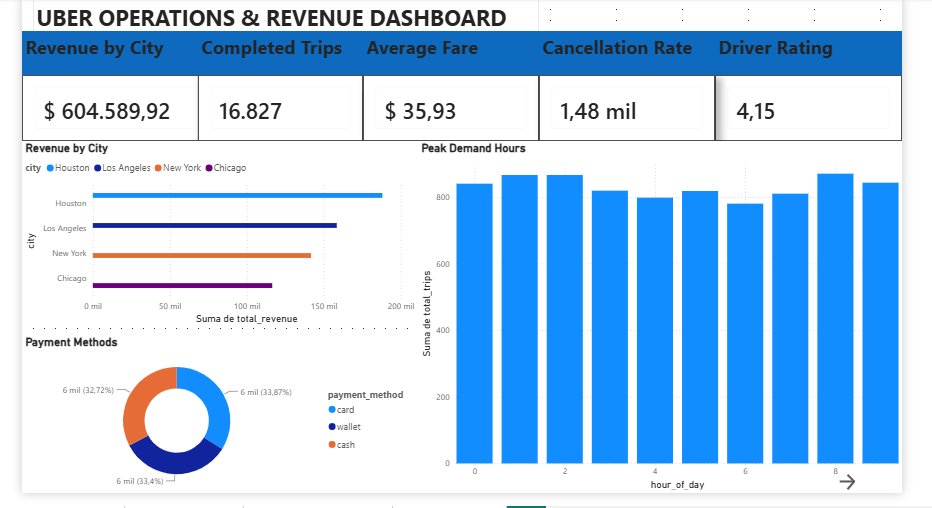

This screenshot's page, from the dashboard's own definition file:
{"tool":"powerbi","page":{"name":"Executive Overview","canvas":[1280,720],"ordinal":0},"visuals":[{"type":"textbox","box":[16,0,736,64],"z":0},{"type":"cardVisual","fields":{"Data":["Measures (2).Total Revenue Display"]},"box":[0,112,320,96],"z":1000},{"type":"cardVisual","fields":{"Data":["Measures (2).Completed Trips Display"]},"box":[256,112,240,96],"z":2000},{"type":"cardVisual","fields":{"Data":["Measures (2).Average Fare Display"]},"box":[496,112,256,96],"z":3000},{"type":"cardVisual","fields":{"Data":["Measures (2).Driver Rating"]},"box":[1008,112,272,96],"z":4000},{"type":"cardVisual","fields":{"Data":["Measures (2).Cancellation Rate"]},"box":[752,112,256,96],"z":5000},{"type":"clusteredBarChart","title":"Revenue by City","fields":{"Category":["2_revenue_by_city.city"],"Y":["Sum(2_revenue_by_city.total_revenue)"],"Series":["2_revenue_by_city.city"]},"box":[0,208,576,272],"z":6000},{"type":"textbox","box":[0,48,256,64],"z":7000},{"type":"textbox","box":[256,48,240,64],"z":8000},{"type":"textbox","box":[496,48,256,64],"z":9000},{"type":"textbox","box":[752,48,256,64],"z":10000},{"type":"textbox","box":[1008,48,272,64],"z":11000},{"type":"donutChart","title":"Payment Methods","fields":{"Category":["4_payment_methods.payment_method"],"Y":["Sum(4_payment_methods.total_payments)"]},"box":[0,490,576,230],"z":12000},{"type":"columnChart","title":"Peak Demand Hours","fields":{"Category":["5_peak_demand_hours.hour_of_day"],"Y":["Sum(5_peak_demand_hours.total_trips)"]},"box":[576,208,704,512],"z":13000},{"type":"actionButton","box":[1184,688,96,32],"z":14000}]}

Visuals, with their boxes on the page's 1280x720 design canvas (x1, y1, x2, y2). These are canvas units, not pixel positions in the 932x508 screenshot, which may show the page scaled, cropped or inside an application window:
textbox: [x1=16, y1=0, x2=752, y2=64]
cardVisual - Measures (2).Total Revenue Display: [x1=0, y1=112, x2=320, y2=208]
cardVisual - Measures (2).Completed Trips Display: [x1=256, y1=112, x2=496, y2=208]
cardVisual - Measures (2).Average Fare Display: [x1=496, y1=112, x2=752, y2=208]
cardVisual - Measures (2).Driver Rating: [x1=1008, y1=112, x2=1280, y2=208]
cardVisual - Measures (2).Cancellation Rate: [x1=752, y1=112, x2=1008, y2=208]
"Revenue by City" clusteredBarChart: [x1=0, y1=208, x2=576, y2=480]
textbox: [x1=0, y1=48, x2=256, y2=112]
textbox: [x1=256, y1=48, x2=496, y2=112]
textbox: [x1=496, y1=48, x2=752, y2=112]
textbox: [x1=752, y1=48, x2=1008, y2=112]
textbox: [x1=1008, y1=48, x2=1280, y2=112]
"Payment Methods" donutChart: [x1=0, y1=490, x2=576, y2=720]
"Peak Demand Hours" columnChart: [x1=576, y1=208, x2=1280, y2=720]
actionButton: [x1=1184, y1=688, x2=1280, y2=720]
